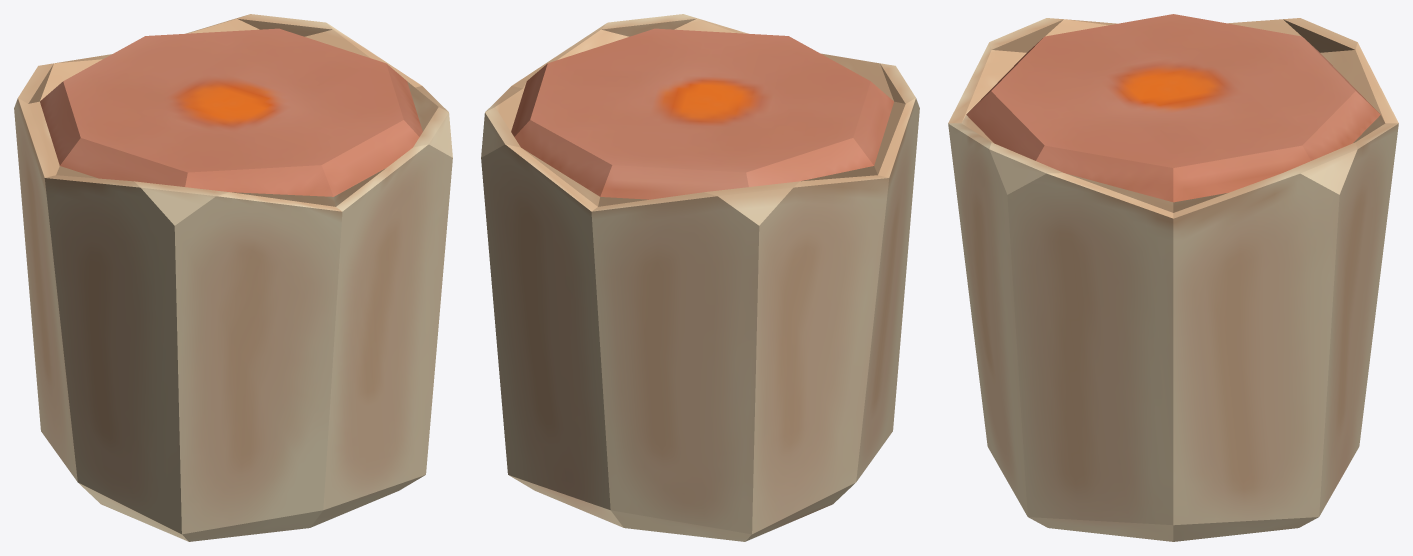
File: Foods_Siomai.fbx
3 renders of one model, left to right at view 1: azimuth 30°, elevation 25°; view 2: azimuth 150°, elevation 25°; view 3: azimuth 270°, elevation 25°, orthographic. The views are drawn at different scales.
Parts seen in each view (by area): view 1: Siomai; view 2: Siomai; view 3: Siomai.
Part boxes in pixels (x1=…): Siomai: x1=14, y1=14, x2=452, y2=541; Siomai: x1=481, y1=14, x2=919, y2=541; Siomai: x1=948, y1=14, x2=1398, y2=541.
Bounding box in the file's own units: 116 × 116 × 109.
1 material, 1 textured.
